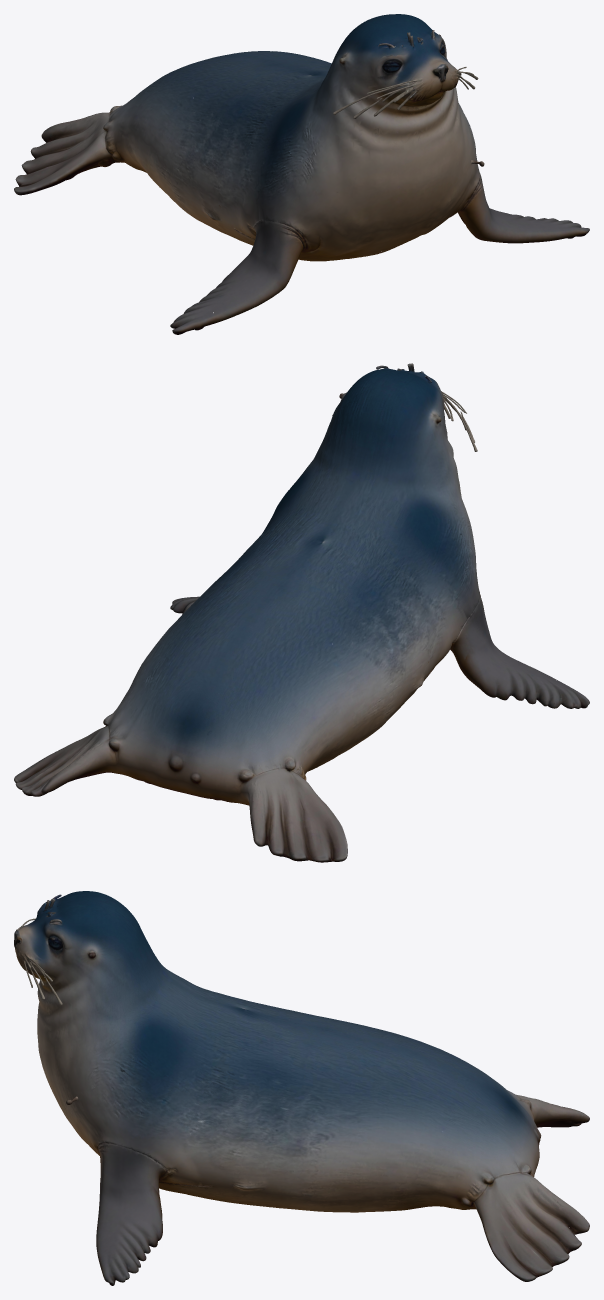
File: bao.glb
The picture shows the model from 3 angles, top to bottom: view 1: azimuth 30°, elevation 25°; view 2: azimuth 150°, elevation 25°; view 3: azimuth 270°, elevation 25°; orthographic projection. The views are drawn at different scales.
Parts seen in each view (by area): view 1: tripo_node_4d9e32b8-0cb1-4d02-9131-9a517dedc30f; view 2: tripo_node_4d9e32b8-0cb1-4d02-9131-9a517dedc30f; view 3: tripo_node_4d9e32b8-0cb1-4d02-9131-9a517dedc30f.
Part boxes in pixels (x1,y1,x2,y2): tripo_node_4d9e32b8-0cb1-4d02-9131-9a517dedc30f: (14, 14, 589, 334); tripo_node_4d9e32b8-0cb1-4d02-9131-9a517dedc30f: (14, 363, 589, 862); tripo_node_4d9e32b8-0cb1-4d02-9131-9a517dedc30f: (14, 891, 589, 1285).
Bounding box in the file's own units: 0.8659 × 0.5765 × 0.9994.
1 material, 1 textured.
